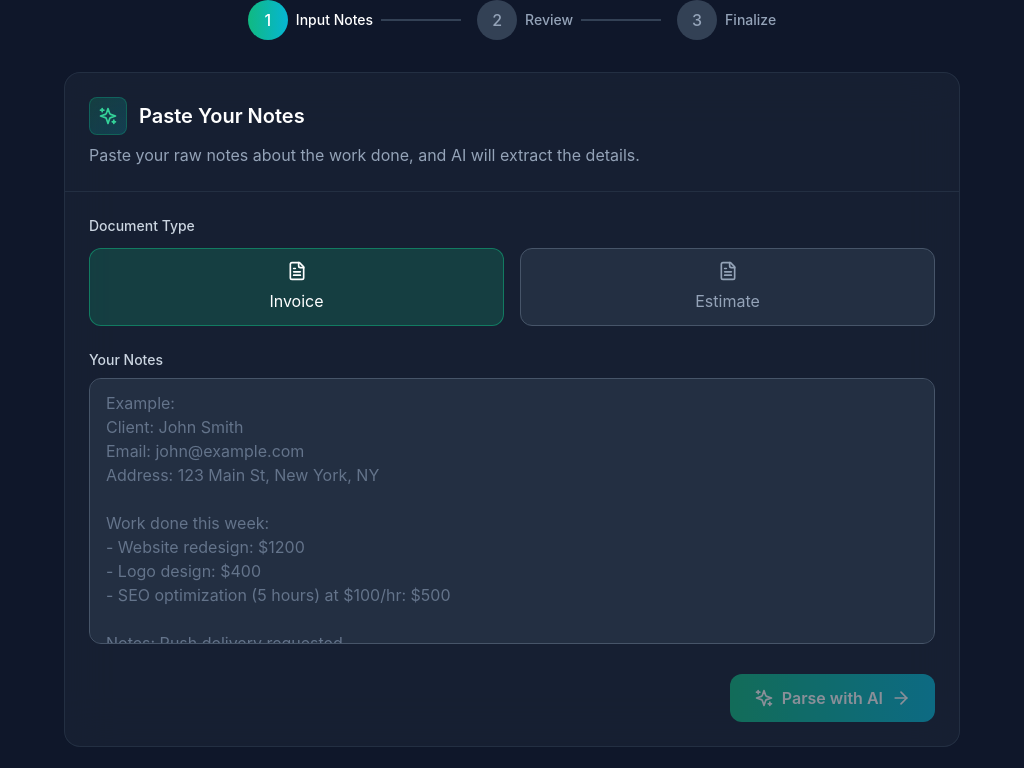
Test: Line-item edge-input guard › qty=-5 is treated as abs(5) — item total and subtotal stay positive
Replace the text in the text box with placeholder "Example:" with "Design work for Acme Corp" at {"x": 512, "y": 511}, box x1=89 y1=378 x2=935 y2=644
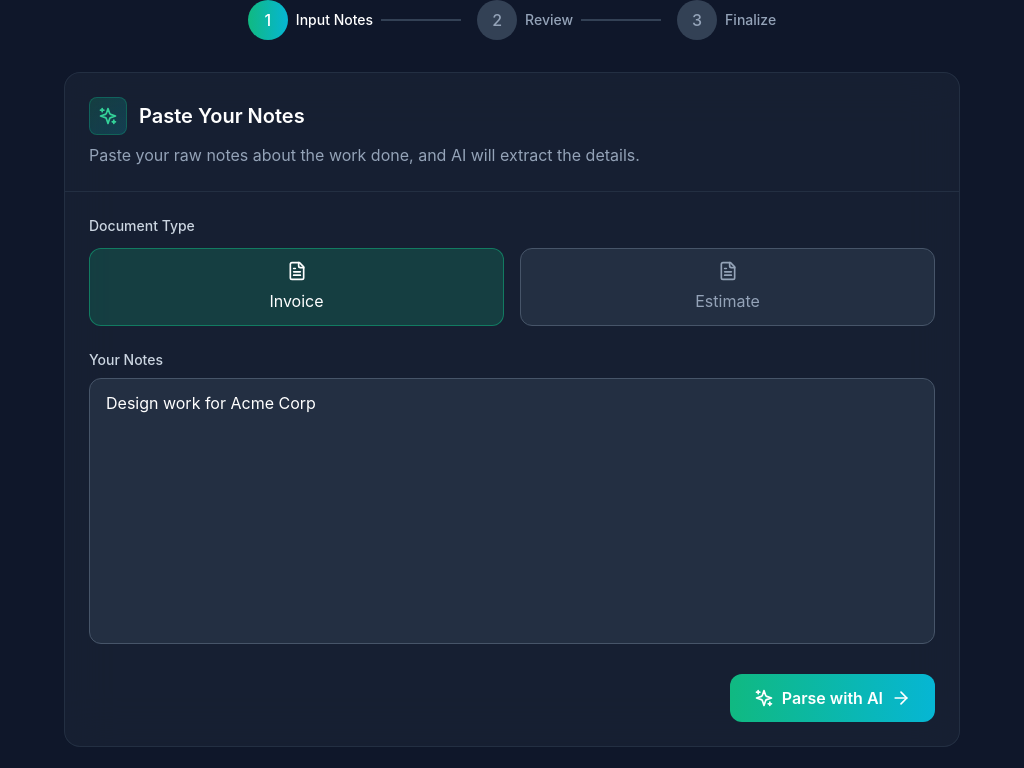
Click the button "Parse with AI" at {"x": 832, "y": 698}, box x1=730 y1=674 x2=935 y2=722
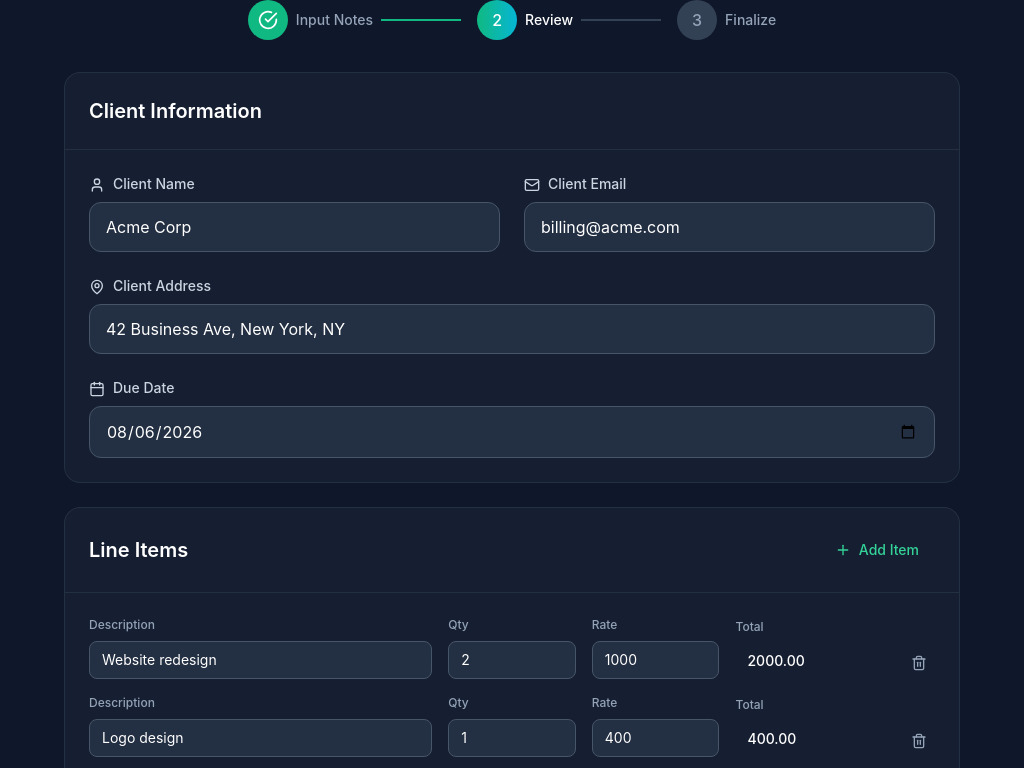
Result: the heading "Client Information" is shown at x1=89 y1=99 x2=262 y2=123
Replace the text in the 1st number field showing "2" with "-5" at {"x": 512, "y": 660}, box x1=448 y1=641 x2=576 y2=679
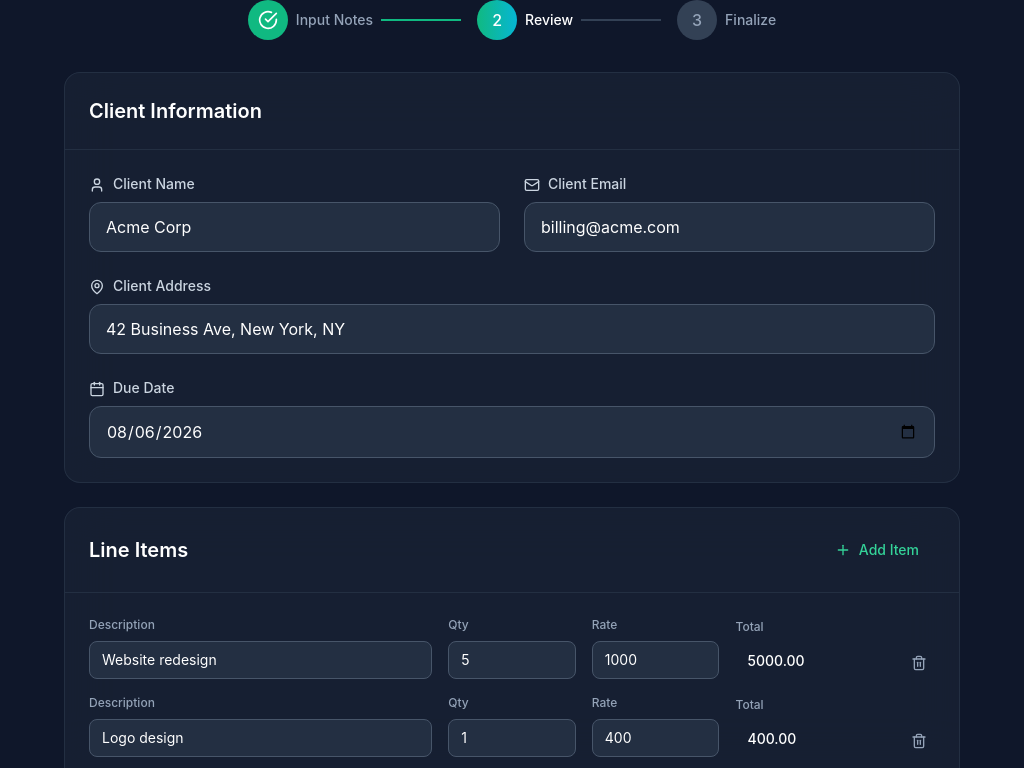
Result: the text "5000.00" is shown at x1=748 y1=652 x2=805 y2=669
